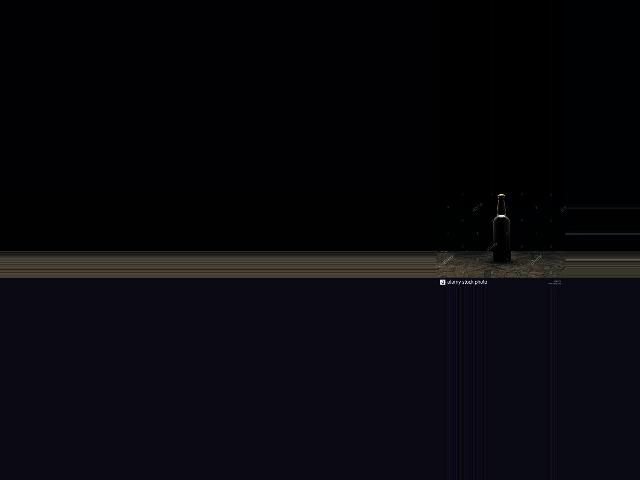beer: (494, 194, 510, 262)
